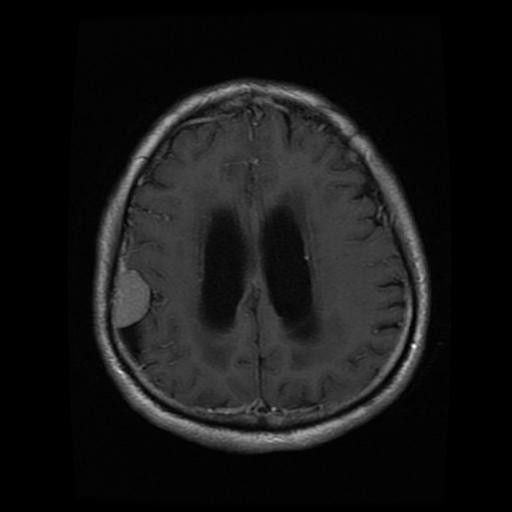Menigiomia_tumour: (111, 264, 147, 324)
